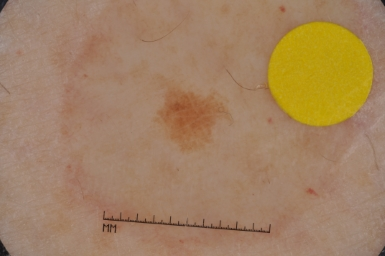seborrheic keratosis: (139, 75, 250, 169)
